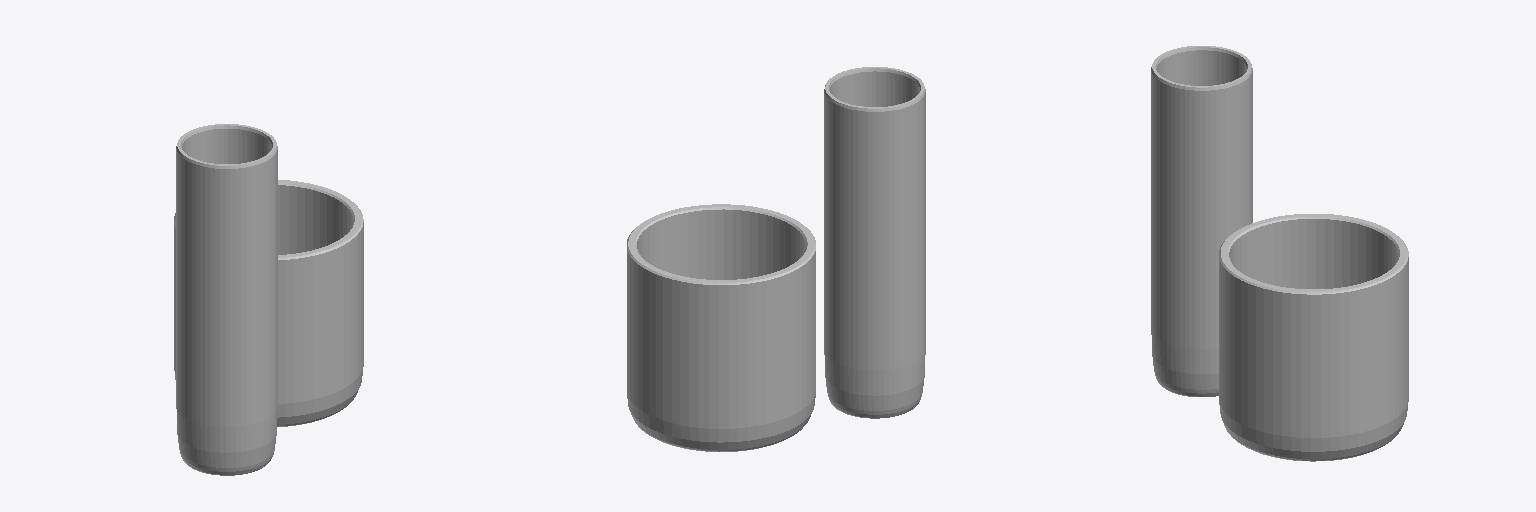
File: crazyhighbottles.obj
3 renders of one model, left to right at view 1: azimuth 30°, elevation 25°; view 2: azimuth 150°, elevation 25°; view 3: azimuth 270°, elevation 25°, orthographic.
Parts seen in each view (by area): view 1: Cylinder.012_Cylinder.014, Cylinder.010; view 2: Cylinder.010, Cylinder.012_Cylinder.014; view 3: Cylinder.010, Cylinder.012_Cylinder.014.
Part boxes in pixels (left/top/right/bottom): Cylinder.012_Cylinder.014: left=176, top=124, right=277, bottom=475; Cylinder.010: left=174, top=180, right=363, bottom=426; Cylinder.010: left=627, top=204, right=815, bottom=451; Cylinder.012_Cylinder.014: left=824, top=67, right=925, bottom=418; Cylinder.010: left=1219, top=214, right=1408, bottom=461; Cylinder.012_Cylinder.014: left=1151, top=46, right=1252, bottom=396.
Bounding box in the file's own units: 0.7602 × 1.01 × 0.7579.